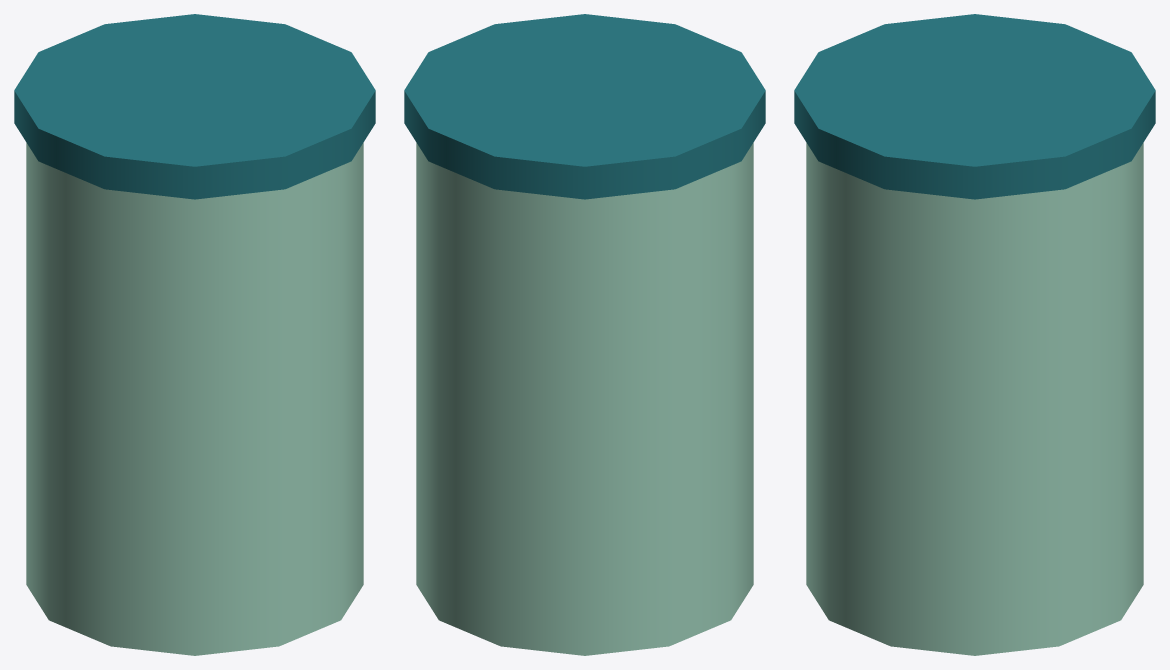
Rendered from trash_bin.glb.
The picture shows the model from 3 angles, left to right: view 1: azimuth 30°, elevation 25°; view 2: azimuth 150°, elevation 25°; view 3: azimuth 270°, elevation 25°; orthographic projection.
Visible parts, largest first — view 1: trash_bin; view 2: trash_bin; view 3: trash_bin.
Part boxes in pixels (x1=…): trash_bin: x1=14, y1=14, x2=375, y2=655; trash_bin: x1=404, y1=14, x2=765, y2=655; trash_bin: x1=794, y1=14, x2=1155, y2=655.
Bounding box in the file's own units: 0.6 × 0.905 × 0.6.
